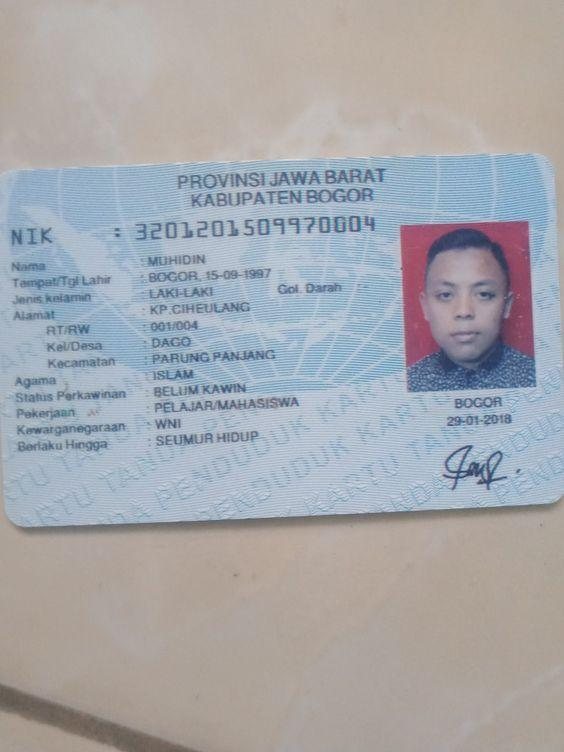ID-card: (5, 152, 561, 523)
